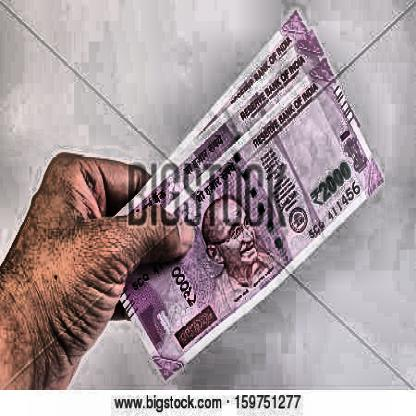Rs2000: (304, 152, 359, 216)
